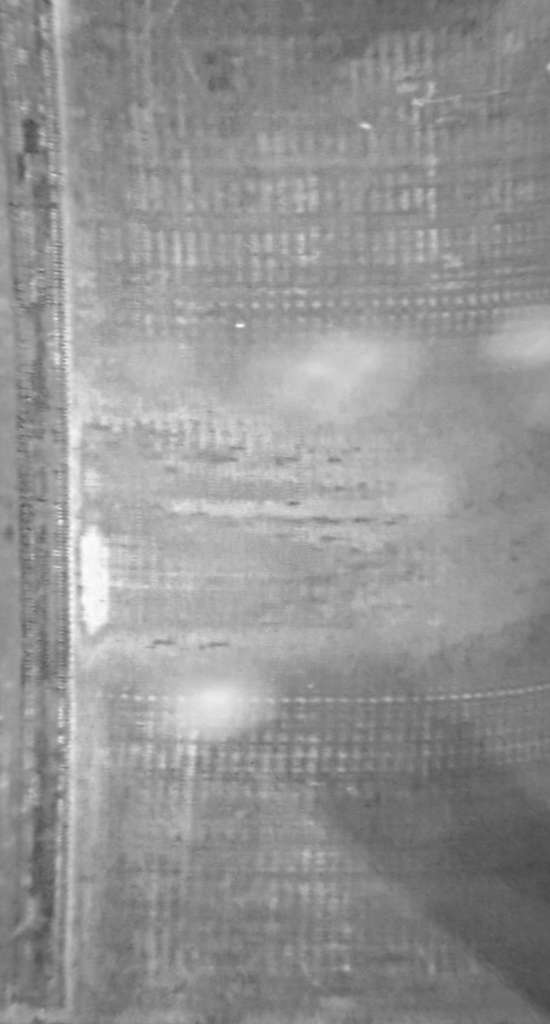splice: (1, 1, 71, 1024)
